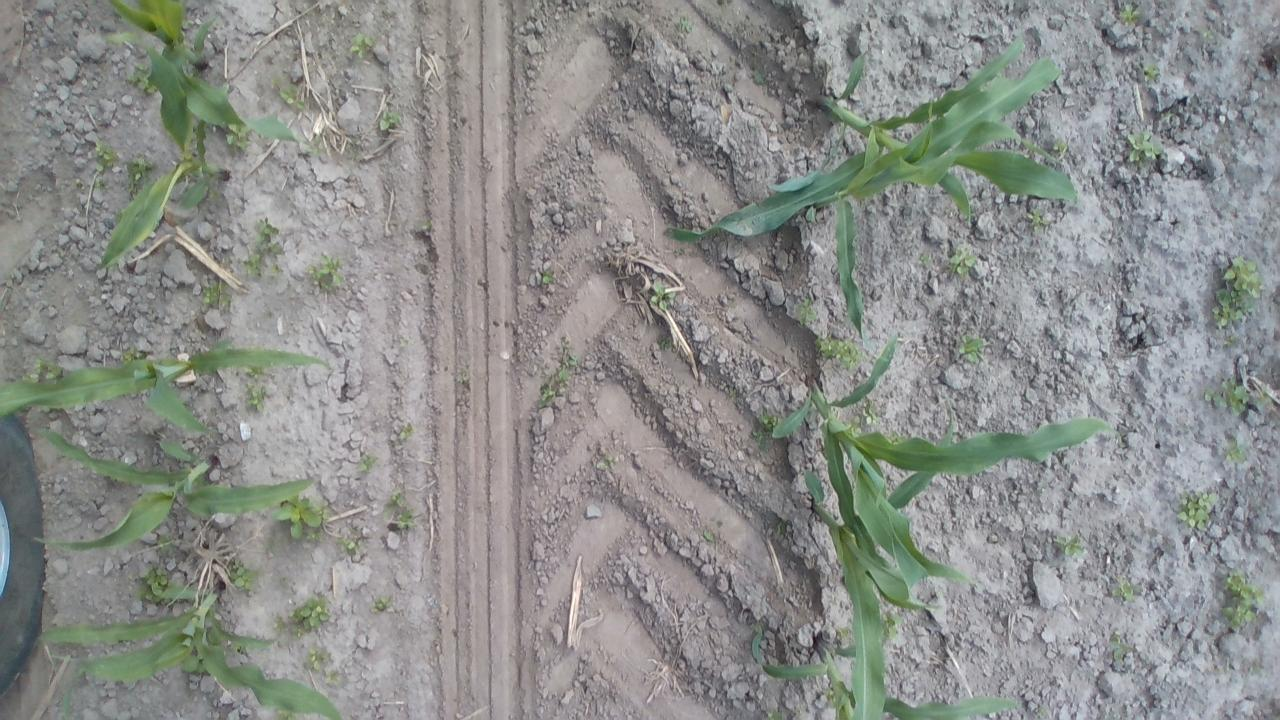Maize: (769, 328, 1121, 611), (666, 35, 1076, 245), (804, 55, 1063, 342), (804, 393, 954, 718), (36, 579, 346, 720), (31, 426, 317, 550), (94, 33, 236, 270), (1, 336, 331, 433), (108, 0, 304, 146), (751, 622, 1024, 719)
Weeds: (1212, 254, 1262, 328), (536, 334, 579, 410), (271, 494, 331, 545), (1220, 568, 1265, 635), (242, 215, 288, 276), (272, 595, 334, 638), (1174, 488, 1222, 534), (1200, 376, 1251, 418), (815, 334, 866, 369), (302, 254, 347, 292), (1124, 129, 1164, 170), (132, 563, 168, 606), (125, 153, 156, 198), (746, 413, 778, 453), (227, 558, 260, 591), (948, 246, 978, 282), (19, 356, 62, 380), (1108, 574, 1144, 602), (126, 61, 156, 94), (94, 139, 120, 173), (1053, 531, 1087, 557), (649, 282, 677, 312), (1226, 430, 1250, 464), (1107, 632, 1134, 662), (202, 282, 232, 308), (278, 84, 309, 109), (794, 297, 818, 329), (349, 32, 374, 62), (226, 121, 250, 152), (958, 334, 983, 363), (1116, 2, 1142, 28), (303, 646, 331, 670), (880, 610, 901, 642), (244, 384, 266, 414), (1026, 208, 1050, 234), (336, 534, 361, 558), (378, 108, 402, 130), (1252, 386, 1272, 412), (359, 452, 382, 473), (862, 398, 879, 426), (264, 527, 280, 556), (304, 135, 325, 157), (596, 453, 620, 472), (396, 505, 414, 530), (369, 596, 394, 614), (1049, 135, 1070, 154), (655, 332, 673, 354), (242, 366, 266, 382), (674, 14, 693, 34), (1144, 61, 1162, 82), (184, 656, 206, 673), (382, 492, 402, 509), (886, 428, 906, 445), (846, 414, 861, 436), (157, 536, 175, 554), (322, 668, 340, 686), (1248, 657, 1264, 676), (273, 708, 298, 720), (777, 518, 790, 541), (763, 706, 783, 720), (121, 345, 137, 362), (917, 252, 933, 269), (398, 422, 412, 441), (835, 626, 852, 641), (1198, 26, 1214, 41), (750, 620, 765, 635), (702, 528, 714, 546), (754, 72, 768, 86), (675, 246, 690, 259), (726, 384, 738, 400), (398, 333, 410, 349), (1212, 664, 1225, 678), (73, 176, 84, 192), (456, 372, 469, 384), (93, 178, 106, 190), (1157, 109, 1174, 118), (269, 77, 280, 90), (1037, 707, 1048, 720), (543, 270, 553, 284), (1225, 334, 1235, 347), (279, 576, 289, 587), (422, 221, 433, 230), (797, 708, 805, 716), (717, 0, 727, 4)
